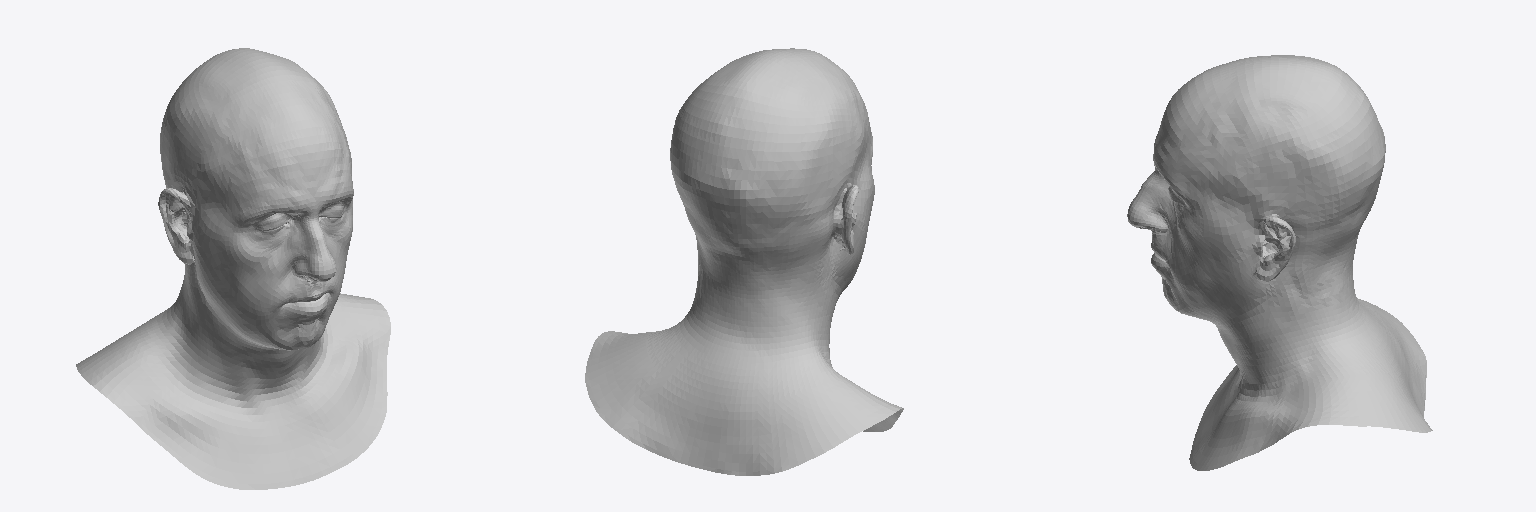
Rendered from Head.obj.
3 renders of one model, left to right at view 1: azimuth 30°, elevation 25°; view 2: azimuth 150°, elevation 25°; view 3: azimuth 270°, elevation 25°, orthographic.
Parts seen in each view (by area): view 1: Head; view 2: Head; view 3: Head.
Boxes of the visible parts, x1=… form: Head: x1=76, y1=48, x2=390, y2=489; Head: x1=585, y1=48, x2=903, y2=475; Head: x1=1127, y1=55, x2=1432, y2=470.
Size of the model in its own units: 0.3006 by 0.3869 by 0.273.